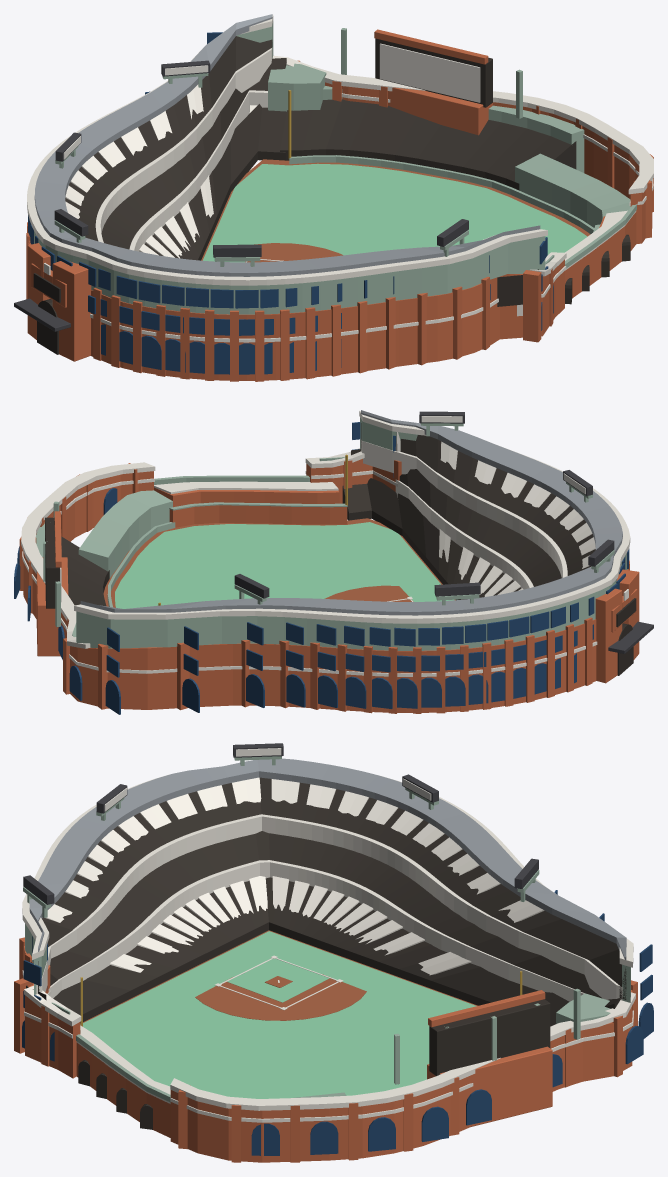
File: oracle-park.glb
3 renders of one model, top to bottom at view 1: azimuth 30°, elevation 25°; view 2: azimuth 150°, elevation 25°; view 3: azimuth 270°, elevation 25°, orthographic. The views are drawn at different scales.
Parts seen in each view (by area): view 1: field_grass, outer_brick_shell, bleachers, deck_canopy, outer_green_frame, upper_deck, outer_cornice, club_deck, lower_deck, batters_eye, outfield_cornice, upper_fascia (+37 smaller); view 2: field_grass, outer_brick_shell, deck_canopy, outer_green_frame, outer_cornice, lower_deck, upper_deck, club_deck, batters_eye, upper_fascia, right_field_wall, outfield_cornice (+46 smaller); view 3: field_grass, lower_deck, upper_deck, club_deck, deck_canopy, outer_brick_shell, upper_fascia, club_fascia, scoreboard_frame, outfield_cornice, scoreboard_pedestal, infield_dirt (+23 smaller).
Boxes of the visible parts, box(x1,y1,x2,y2) form: field_grass: box(203, 163, 587, 262); outer_brick_shell: box(29, 82, 652, 380); bleachers: box(280, 99, 576, 190); deck_canopy: box(34, 14, 540, 276); outer_green_frame: box(34, 21, 545, 314); upper_deck: box(65, 36, 272, 241); outer_cornice: box(27, 15, 547, 285); club_deck: box(101, 58, 538, 306); lower_deck: box(139, 104, 286, 260); batters_eye: box(515, 153, 630, 227); outfield_cornice: box(272, 55, 653, 194); upper_fascia: box(95, 47, 272, 242); field_grass: box(115, 522, 454, 608); outer_brick_shell: box(23, 458, 628, 712); deck_canopy: box(80, 410, 622, 615); outer_green_frame: box(76, 417, 627, 650); outer_cornice: box(74, 410, 630, 623); lower_deck: box(342, 478, 520, 600); upper_deck: box(361, 423, 595, 575); club_deck: box(351, 449, 561, 586); batters_eye: box(78, 490, 172, 578); upper_fascia: box(360, 438, 567, 577); right_field_wall: box(169, 505, 347, 527); outfield_cornice: box(21, 462, 155, 648); field_grass: box(80, 931, 476, 1098); lower_deck: box(53, 877, 569, 1026); upper_deck: box(38, 777, 626, 999); club_deck: box(26, 831, 620, 1008); deck_canopy: box(29, 758, 626, 959); outer_brick_shell: box(24, 946, 632, 1162); upper_fascia: box(36, 814, 622, 1000); club_fascia: box(24, 860, 584, 1019); scoreboard_frame: box(429, 999, 550, 1075); outfield_cornice: box(170, 992, 635, 1110); scoreboard_pedestal: box(427, 1046, 552, 1127); infield_dirt: box(195, 974, 366, 1020).
Size of the model in its own units: 234 by 45 by 204.
